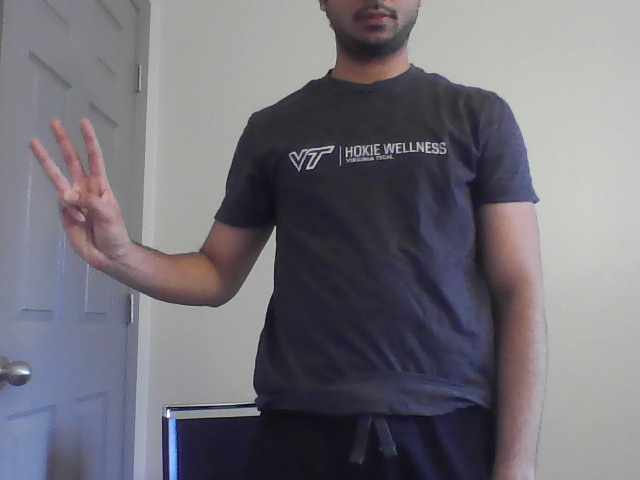three: (25, 114, 138, 261)
